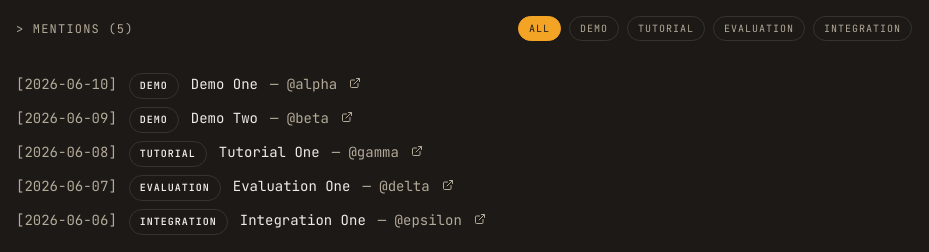
Test: MuseumMentions › filters to only Evaluation mentions when the Evaluation pill is clicked
Click the button "Evaluation".
click(759, 28)  # box [713, 16, 805, 41]
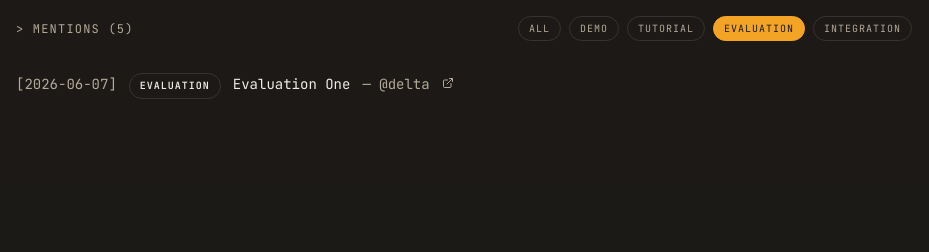
Expected: the text "Evaluation One" is shown, [233, 74, 350, 94]
Result: the number of list items is 1 at [16, 73, 454, 99]
